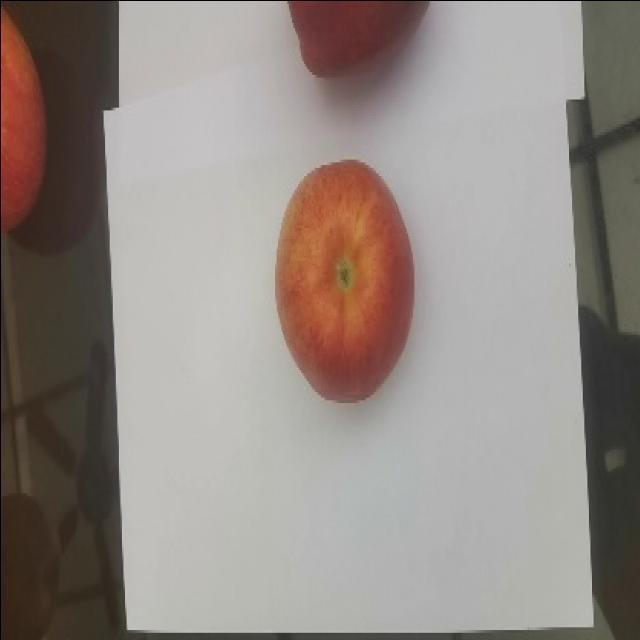Apple: (274, 158, 415, 403), (287, 0, 429, 78), (0, 4, 48, 233)
